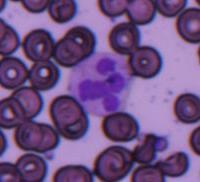N: (68, 52, 132, 117)
